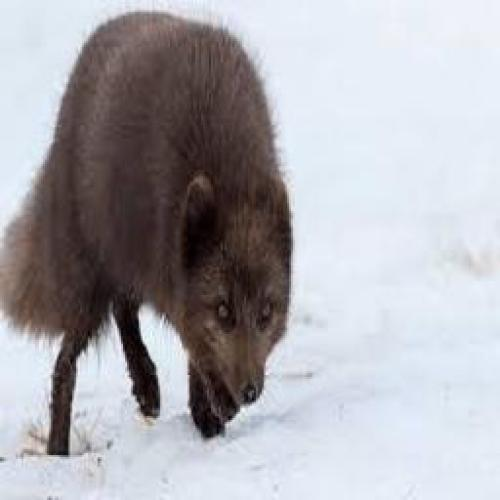arctic_fox-endangered: (10, 13, 292, 439)
